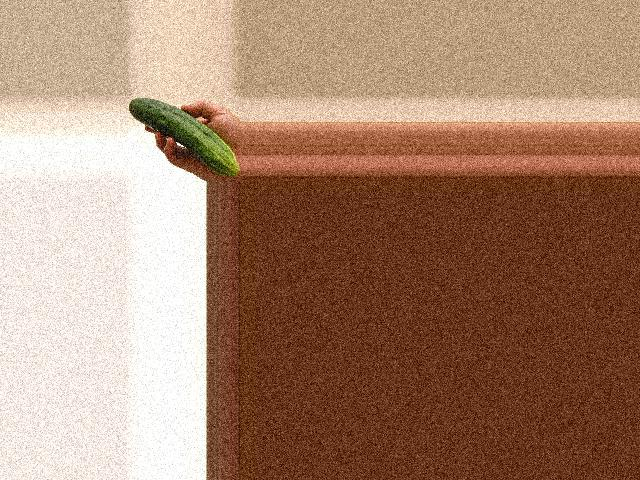cucumber: (128, 98, 238, 177)
